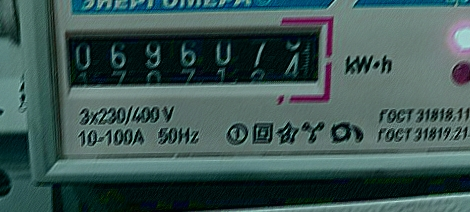0: (71, 40, 93, 70), (213, 36, 233, 66)
4: (280, 50, 300, 79)
6: (177, 37, 198, 68), (107, 39, 127, 68)
7: (248, 35, 267, 66)
9: (142, 38, 163, 68)
screen: (53, 10, 337, 106)
